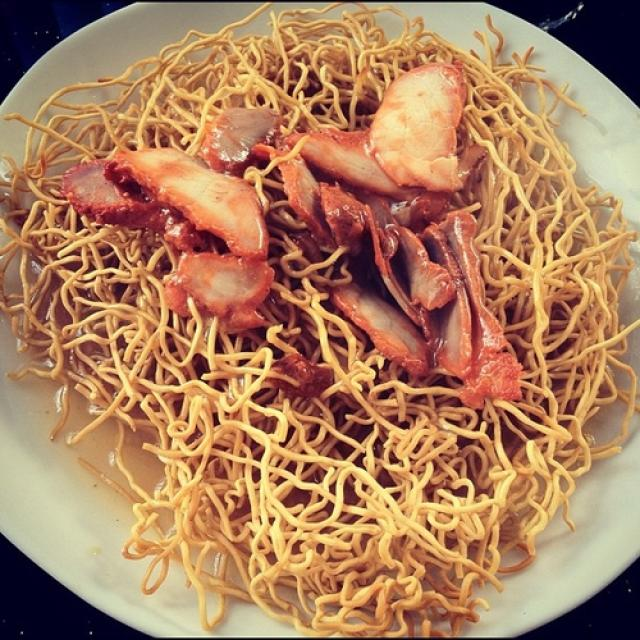面条主食: (1, 8, 631, 628)
